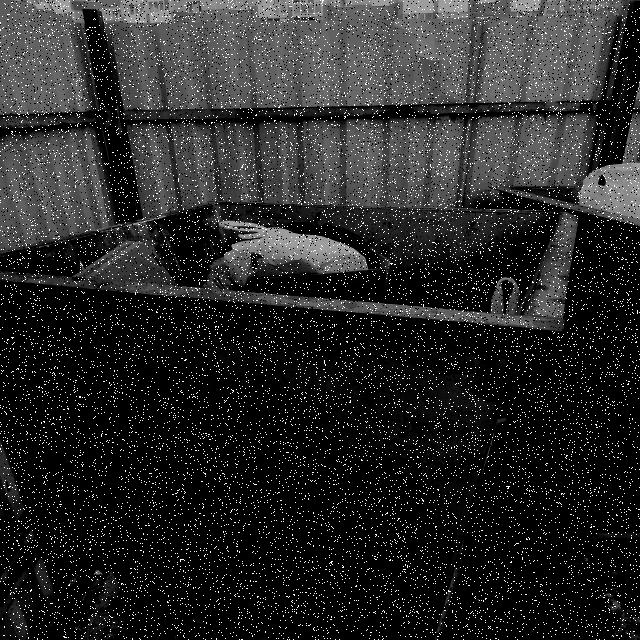Trashcan: (0, 194, 588, 640)
